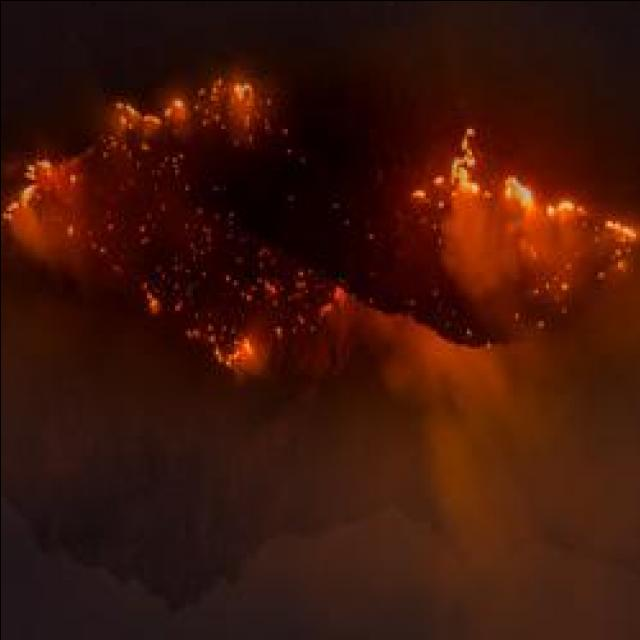fire: (503, 176, 529, 206), (548, 197, 580, 215), (452, 164, 470, 190), (232, 78, 252, 97)
smoke: (446, 530, 638, 640), (0, 302, 83, 499), (431, 412, 518, 572), (582, 288, 640, 376), (442, 210, 502, 290), (424, 348, 494, 398), (9, 214, 50, 257), (385, 359, 407, 389)
